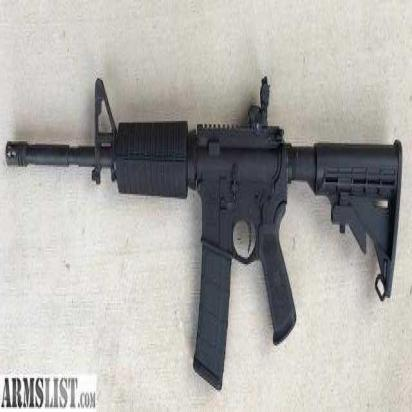Gun: (4, 60, 407, 371)
